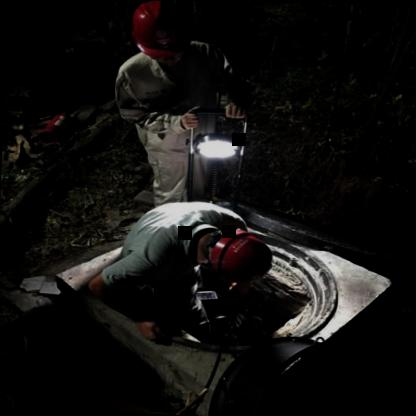helmet: (123, 0, 197, 63), (201, 226, 278, 284)
